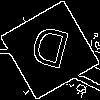D: (25, 25, 72, 79)
